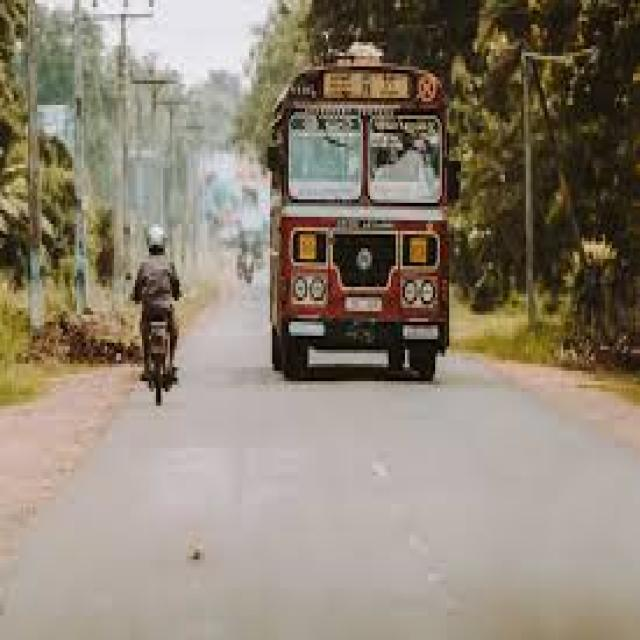bus: (272, 45, 447, 381)
motorcycle: (149, 322, 170, 406)
person: (133, 255, 177, 378)
